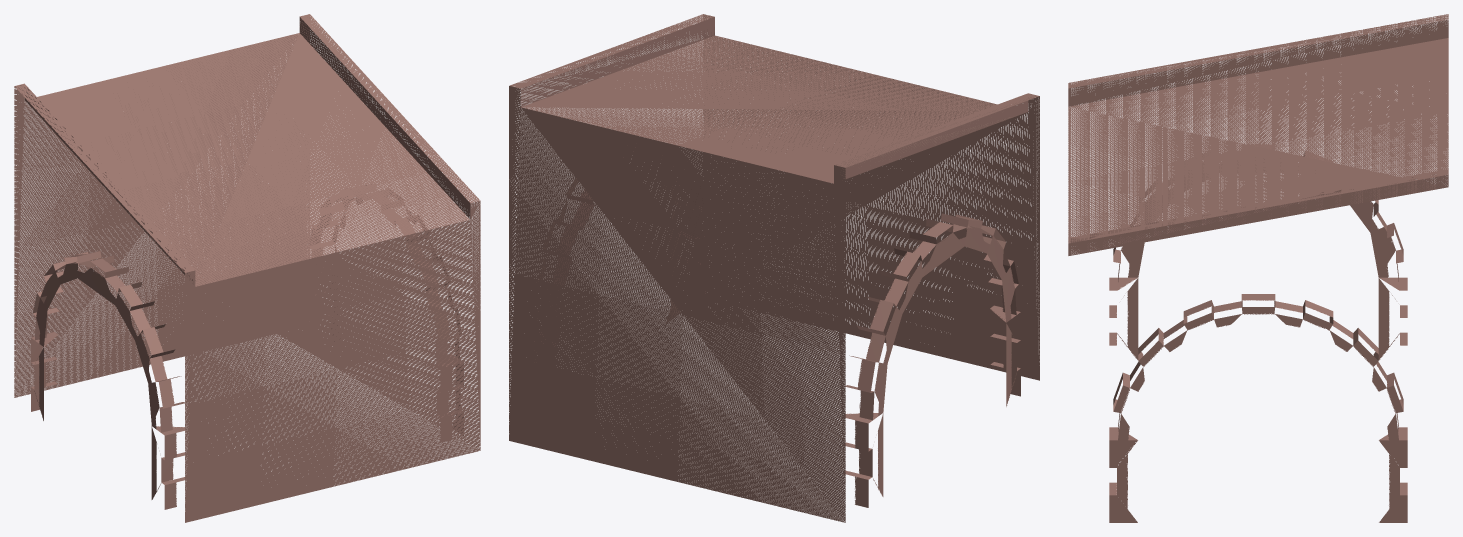
File: SW_ENV_WalledRiser_DoubleTrack_Collision.fbx
The picture shows the model from 3 angles, left to right: view 1: azimuth 30°, elevation 25°; view 2: azimuth 150°, elevation 25°; view 3: azimuth 270°, elevation 25°; orthographic projection. The views are drawn at different scales.
Parts seen in each view (by area): view 1: SW_ENV_WalledRiser_DoubleTrack_Collision; view 2: SW_ENV_WalledRiser_DoubleTrack_Collision; view 3: SW_ENV_WalledRiser_DoubleTrack_Collision.
Boxes of the visible parts, x1,y1,x2,y2 form: SW_ENV_WalledRiser_DoubleTrack_Collision: (14,14,480,522); SW_ENV_WalledRiser_DoubleTrack_Collision: (509,14,1039,522); SW_ENV_WalledRiser_DoubleTrack_Collision: (1068,14,1448,522).
Size of the model in its own units: 10.13 by 10.08 by 10.
